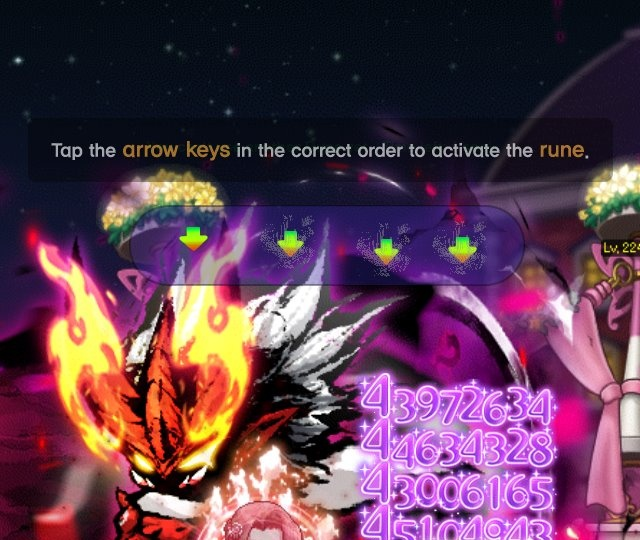down: (363, 231, 407, 273), (171, 218, 214, 258), (270, 224, 311, 260), (443, 232, 483, 267)
